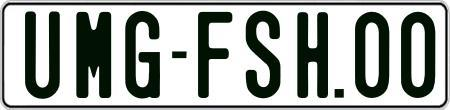0: (353, 12, 392, 99), (398, 12, 434, 104)
F: (198, 11, 233, 103)
G: (123, 11, 163, 99)
H: (295, 9, 331, 97)
M: (75, 11, 113, 97)
S: (244, 8, 283, 99)
U: (23, 10, 62, 103)
